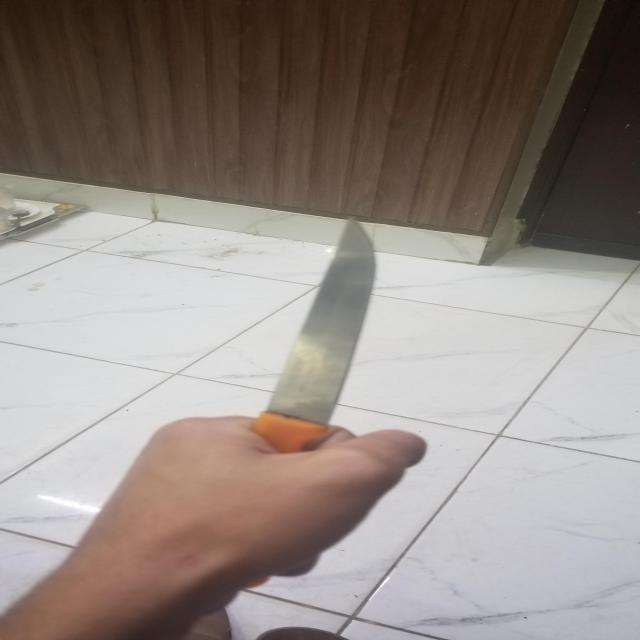weapon: (243, 218, 379, 456)
